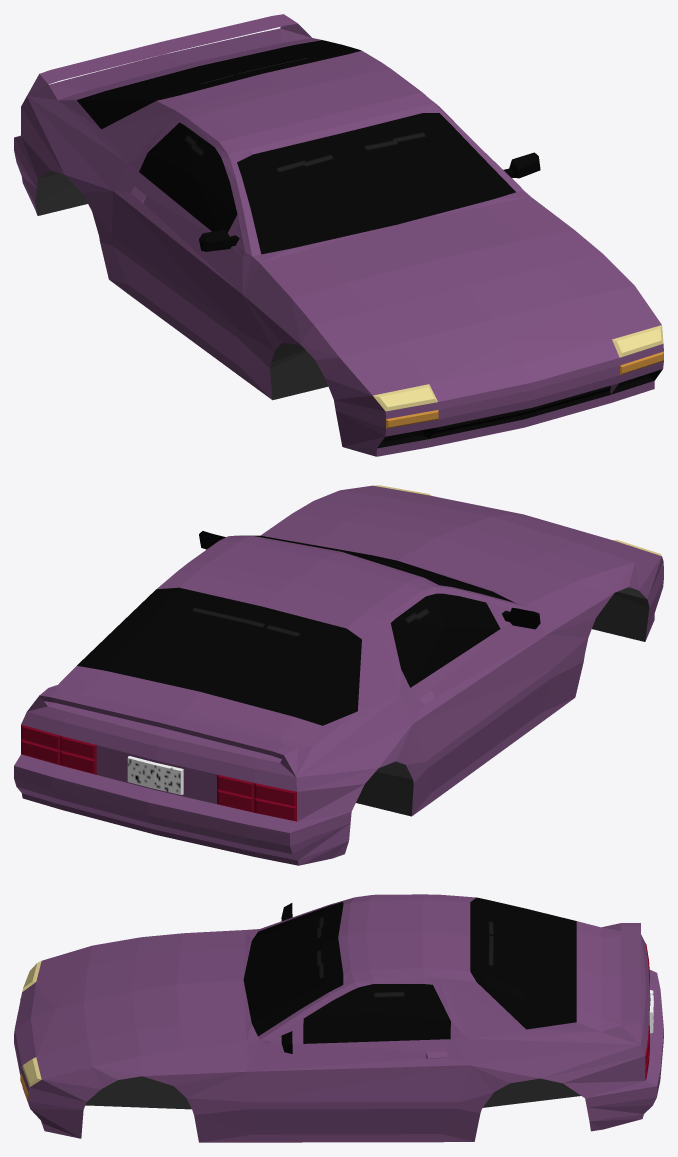
The model's file is mazda rx7.fbx.
3 views of the same model, one above another, from view 1: azimuth 30°, elevation 25°; view 2: azimuth 150°, elevation 25°; view 3: azimuth 270°, elevation 25° (orthographic). The views are drawn at different scales.
Visible parts, largest first — view 1: mazda rx7; view 2: mazda rx7; view 3: mazda rx7.
Part boxes in pixels (x1,y1,x2,y2): mazda rx7: [14, 14, 663, 456]; mazda rx7: [14, 485, 663, 865]; mazda rx7: [14, 894, 663, 1142].
Size of the model in its own units: 3.14 by 1.56 by 6.18.
